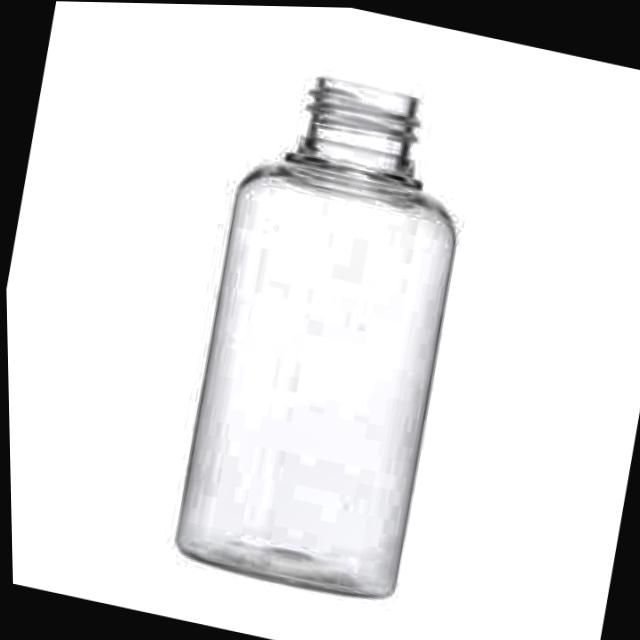Bottles: (139, 36, 525, 638)
